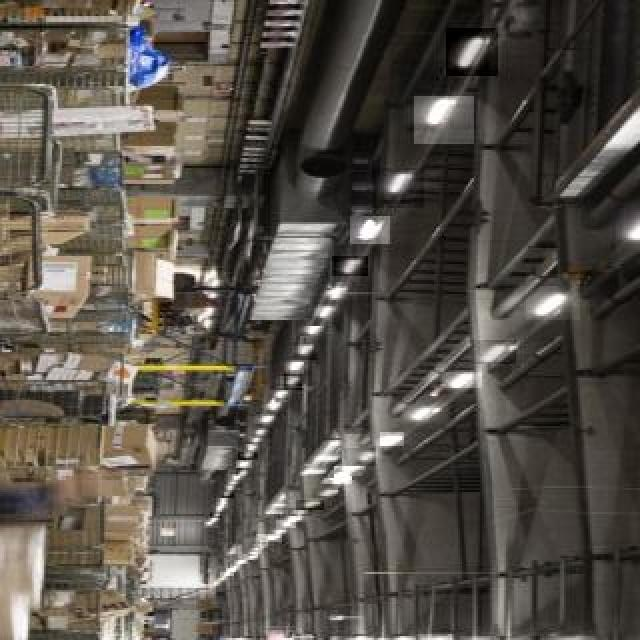fluorescent tube: (531, 271, 584, 331), (473, 318, 520, 369), (417, 91, 466, 136), (435, 357, 485, 399), (458, 33, 502, 80), (340, 205, 391, 243), (396, 388, 444, 428), (609, 200, 640, 245), (324, 256, 371, 280), (380, 173, 420, 200), (494, 622, 546, 640), (552, 624, 598, 640), (369, 433, 407, 449), (472, 622, 500, 640), (414, 632, 460, 640)
